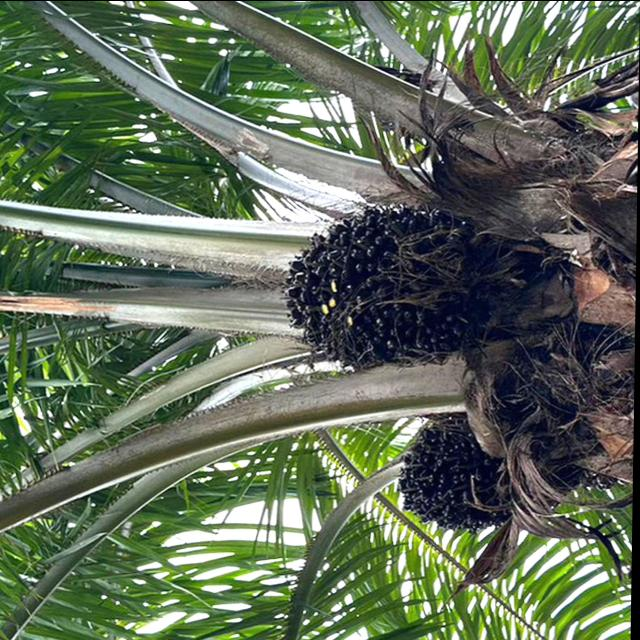unripe: (269, 192, 501, 386), (388, 407, 541, 542)
